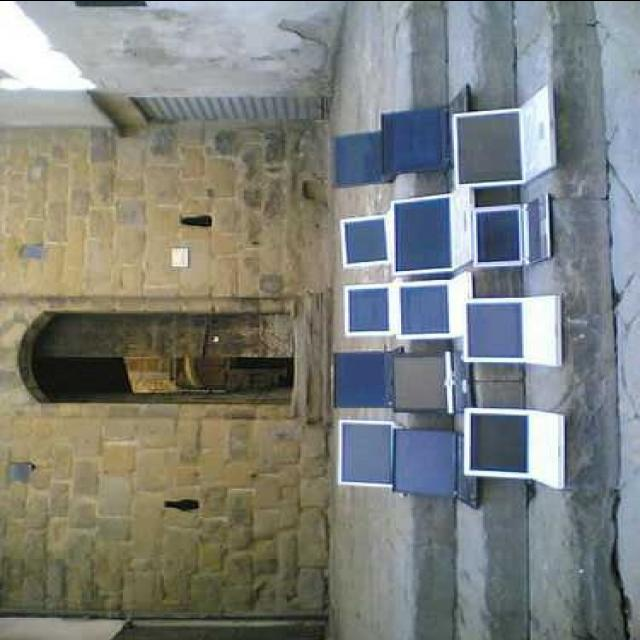laptop: (454, 83, 558, 185), (464, 396, 574, 482), (455, 287, 568, 363), (472, 190, 552, 266), (400, 418, 468, 504), (386, 99, 466, 172), (394, 183, 471, 256), (395, 266, 461, 336), (394, 351, 469, 406), (337, 348, 403, 410), (326, 119, 381, 185), (344, 420, 396, 487), (339, 208, 385, 264), (346, 276, 387, 336)
